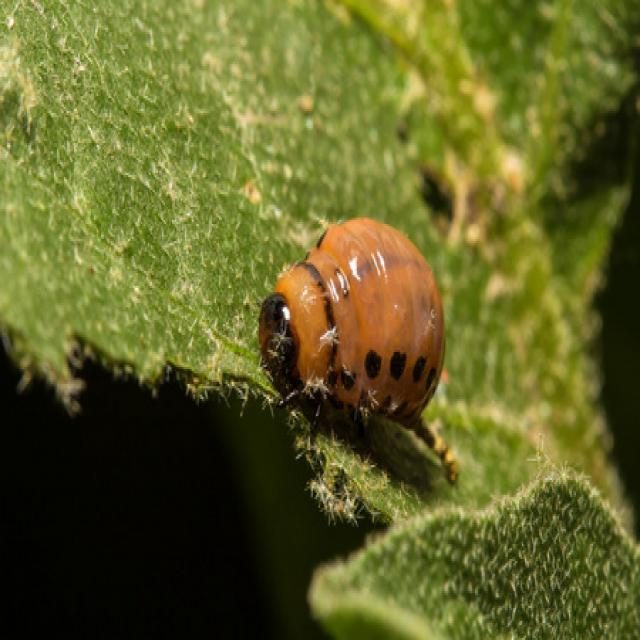ShuCaiHuaBanChong-Larva-: (247, 214, 476, 451)
